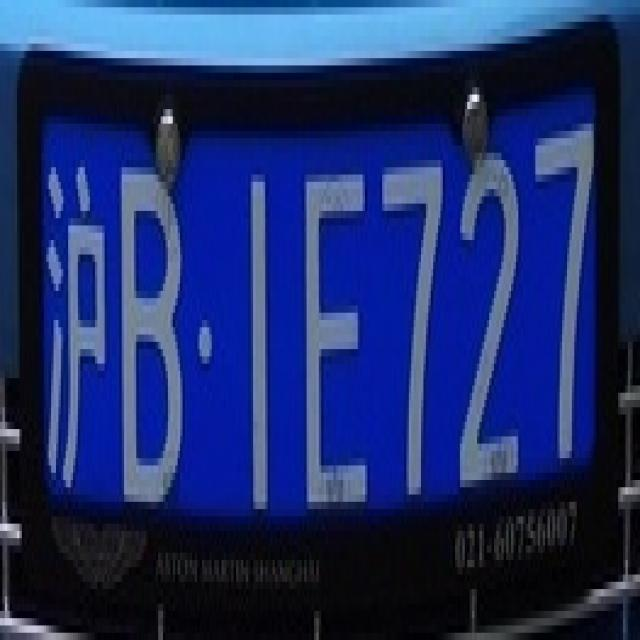licenseplate: (18, 11, 618, 628)
